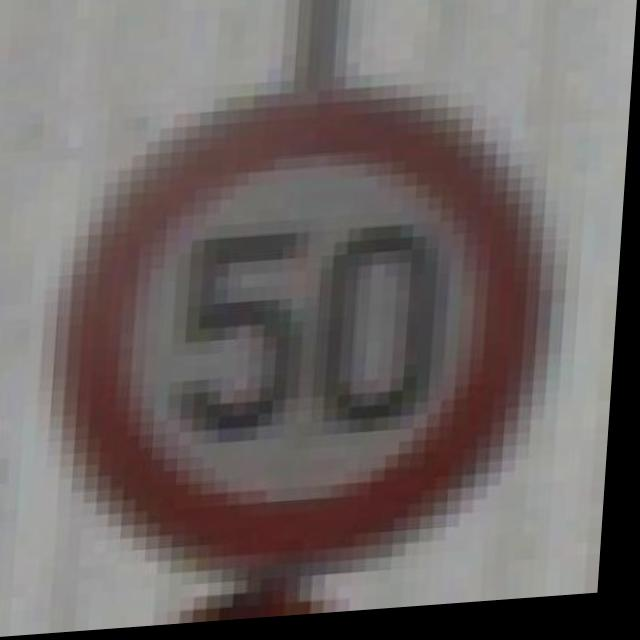Speed limit 50: (49, 75, 571, 584)
